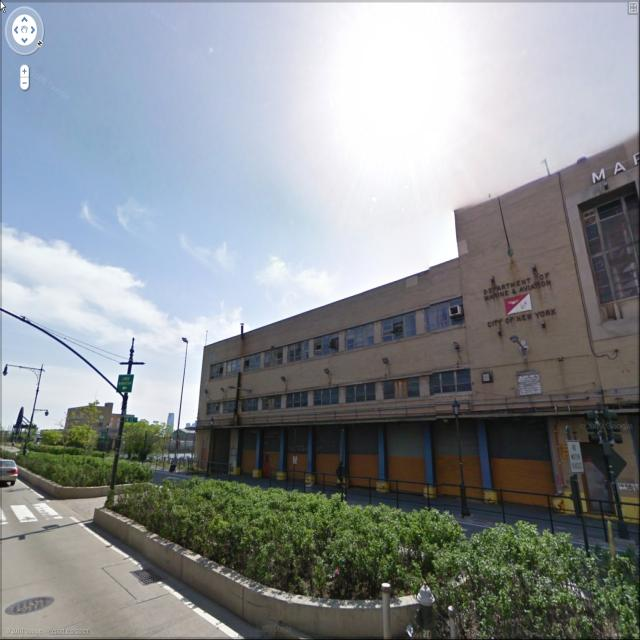b_1: (182, 143, 634, 478)
b_2: (62, 401, 144, 452)
